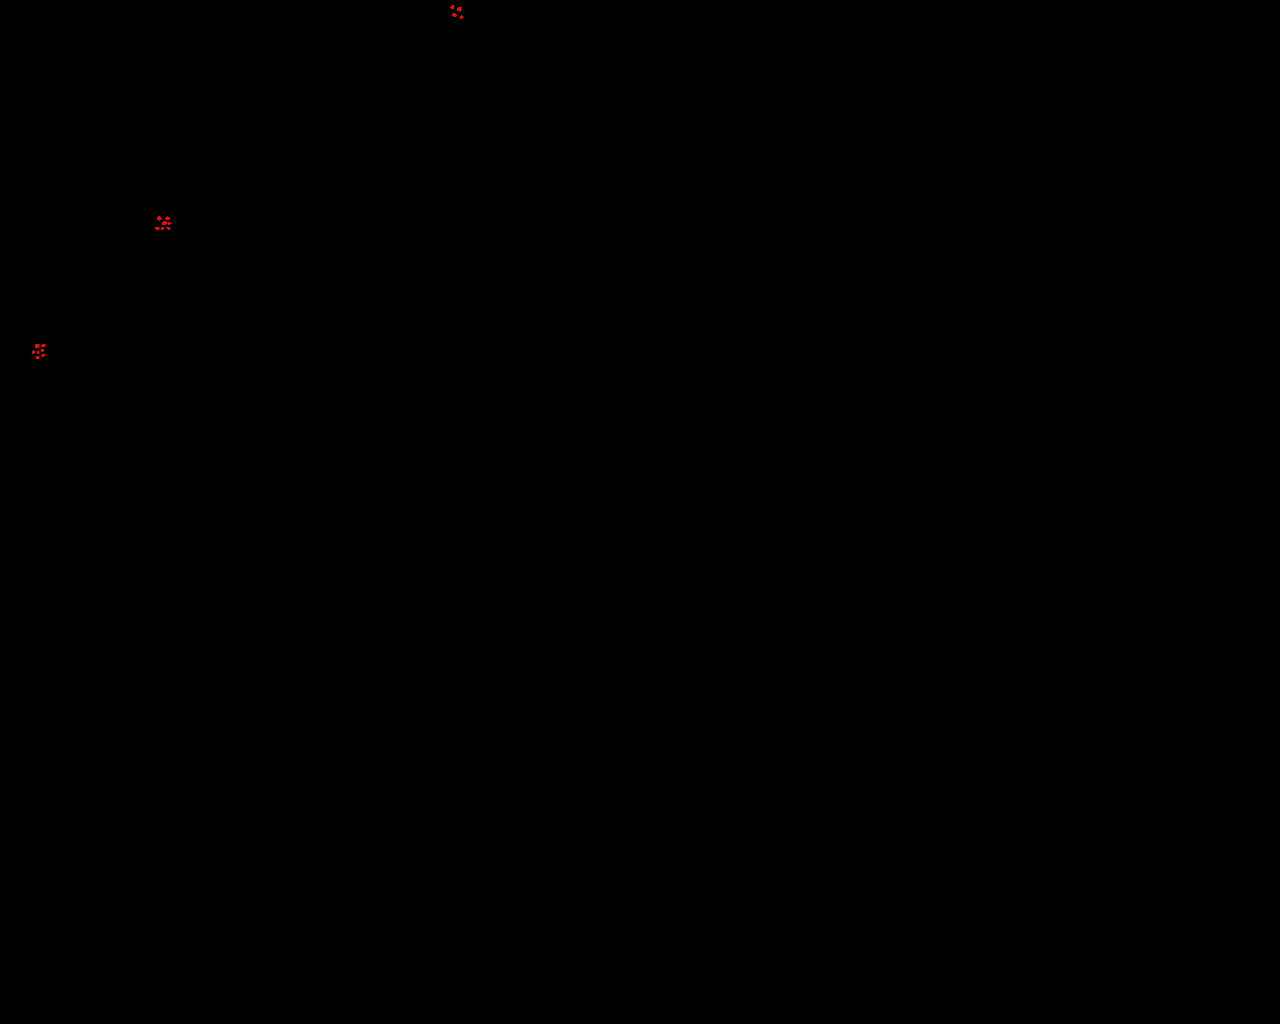Target: (157, 216, 161, 222), (165, 216, 170, 220), (457, 7, 461, 11), (452, 13, 457, 17), (34, 344, 39, 348), (162, 222, 167, 225), (450, 5, 453, 9), (460, 15, 463, 19), (155, 227, 159, 230), (166, 227, 170, 230), (41, 344, 45, 347), (40, 349, 44, 352), (41, 354, 45, 357), (168, 222, 171, 225), (161, 227, 164, 230), (36, 356, 39, 359), (32, 350, 34, 354), (37, 351, 39, 354)
